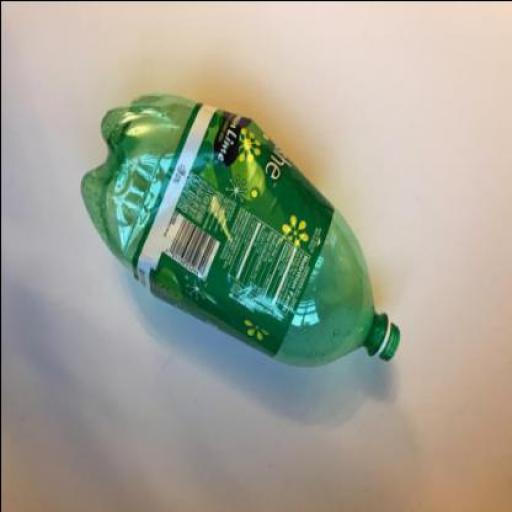plastic: (81, 95, 400, 367), (133, 104, 333, 358)
